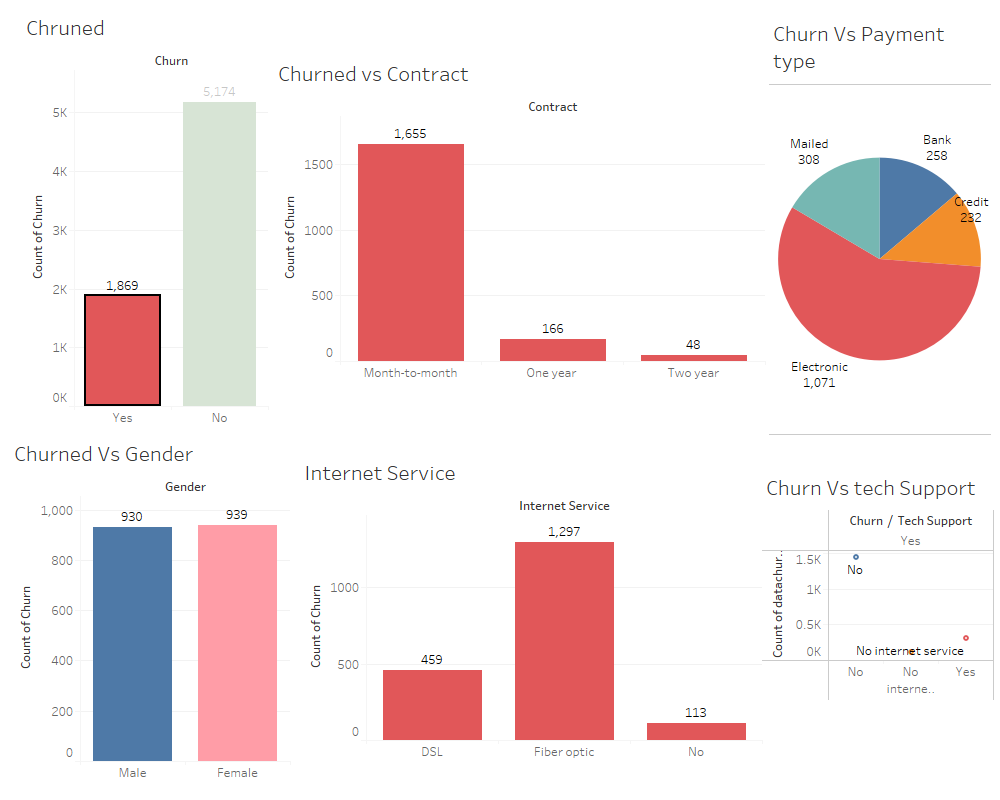

Layout of this report page (visuals, bound fields, positions):
{"tool":"tableau","page":{"name":"Dashboard 1","canvas":[1000,800],"ordinal":0},"visuals":[{"type":"worksheet","title":"Sheet 1","mark":"Automatic","rows":["Churn"],"cols":["Churn"],"box":[22,7,246,420]},{"type":"worksheet","title":"Sheet 5","mark":"Pie","rows":["Churn"],"box":[769,13,222,422]},{"type":"worksheet","title":"Sheet 2","mark":"Automatic","rows":["Churn"],"cols":["Contract"],"box":[274,53,491,329]},{"type":"worksheet","title":"Sheet 4","mark":"Automatic","rows":["Churn"],"cols":["gender"],"box":[10,433,280,349]},{"type":"worksheet","title":"Sheet 3","mark":"Automatic","rows":["Churn"],"cols":["InternetService"],"box":[300,452,462,309]},{"type":"worksheet","title":"Sheet 6","mark":"Shape","rows":["datachurn.csv_0F69E67E7FEB4722AAC5C3778C8F9B47"],"cols":["Churn","TechSupport"],"box":[762,467,232,234]}]}

Visuals, with their boxes in screenshot pixels (x1, y1, x2, y2), scaled from the page's 1000x800 canvas onto the 1000x800 screenshot:
"Sheet 1" worksheet: (22, 7, 268, 427)
"Sheet 5" worksheet (Pie marks): (769, 13, 991, 435)
"Sheet 2" worksheet: (274, 53, 765, 382)
"Sheet 4" worksheet: (10, 433, 290, 782)
"Sheet 3" worksheet: (300, 452, 762, 761)
"Sheet 6" worksheet (Shape marks): (762, 467, 994, 701)
